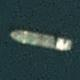ship: (8, 0, 72, 21)
